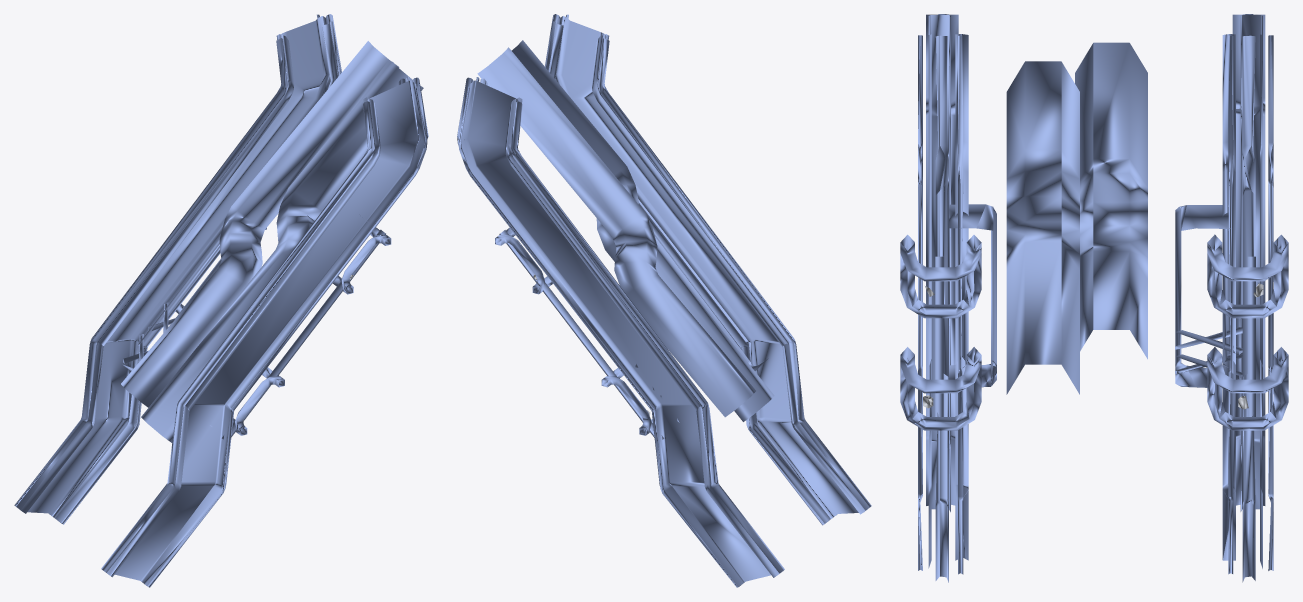
The model's file is backdrop_lpad_support_a_lod1.glb.
The picture shows the model from 3 angles, left to right: view 1: azimuth 30°, elevation 25°; view 2: azimuth 150°, elevation 25°; view 3: azimuth 270°, elevation 25°; orthographic projection. The views are drawn at different scales.
Bounding box in the file's own units: 188 × 231 × 104.
